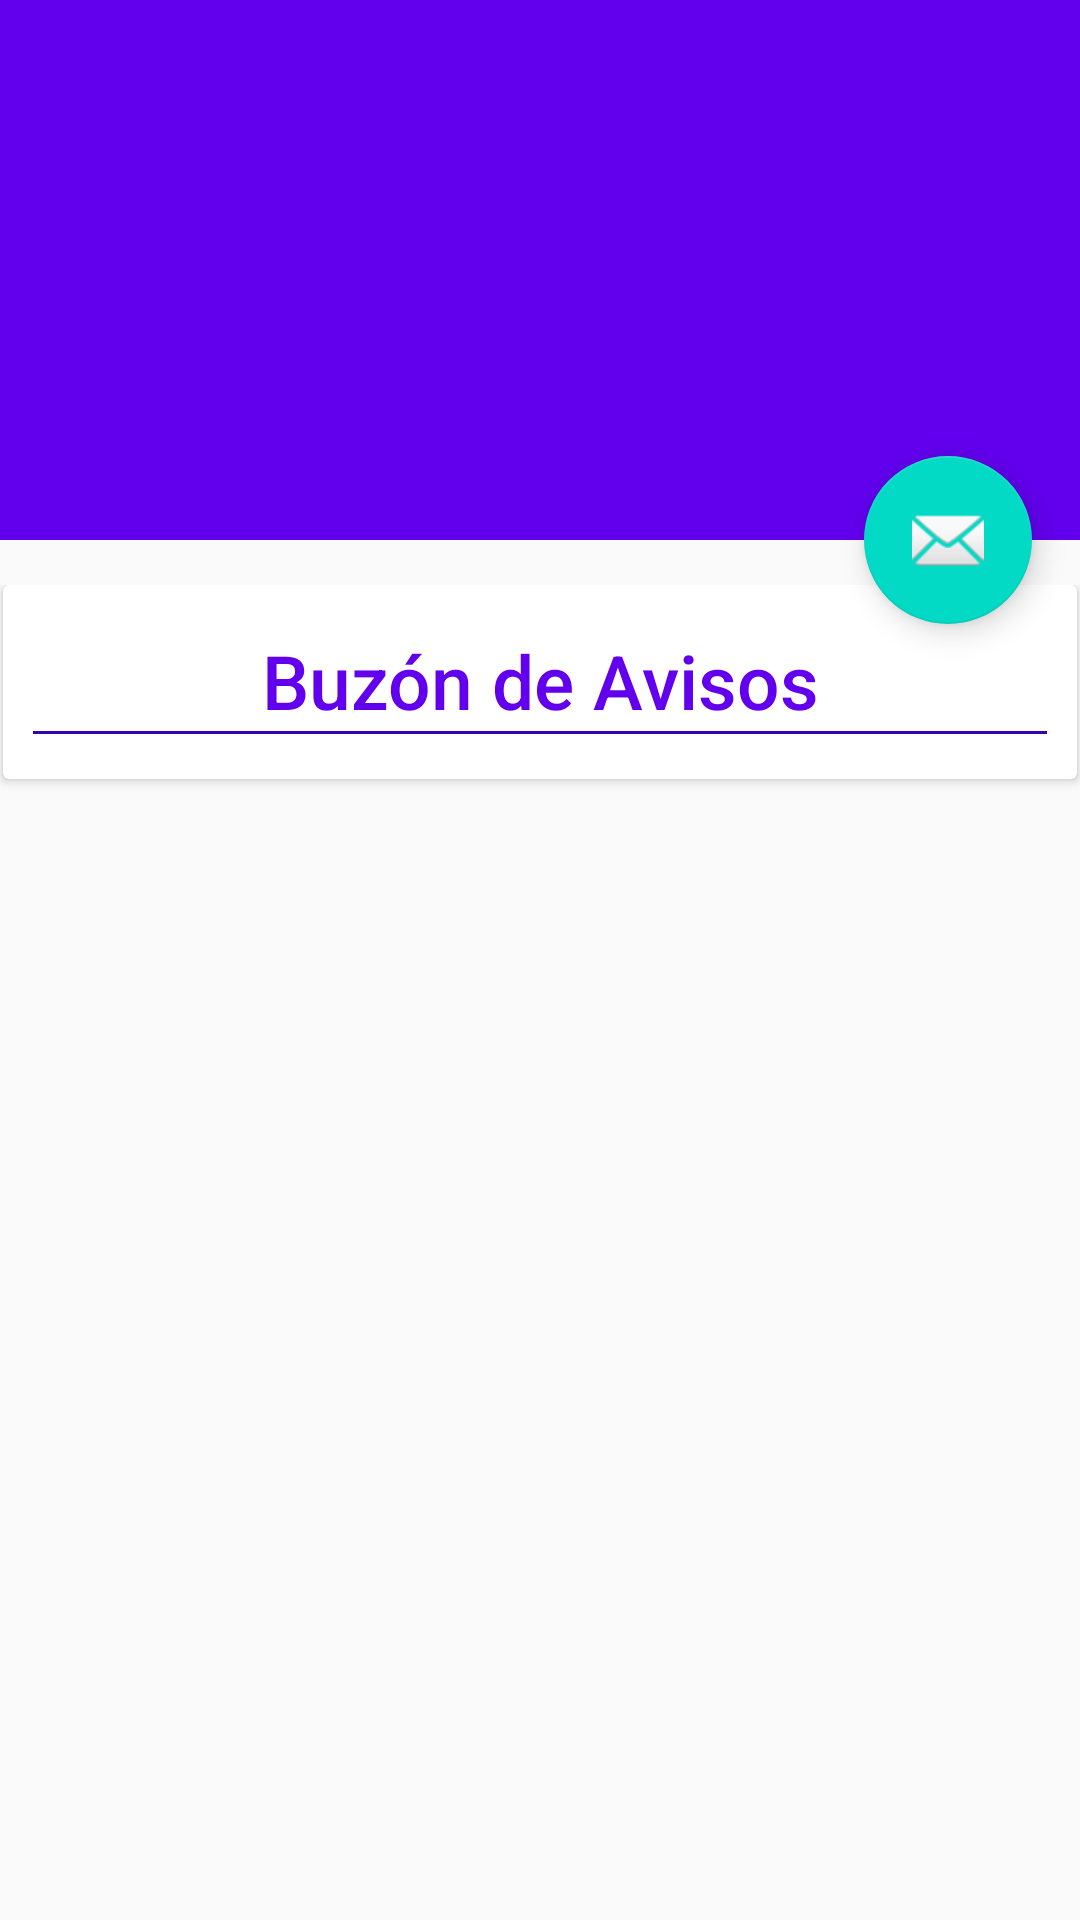

Screen size 1080px×1920px. Icon name, then its center in pixels as [x,y]:
email: [948,540]
